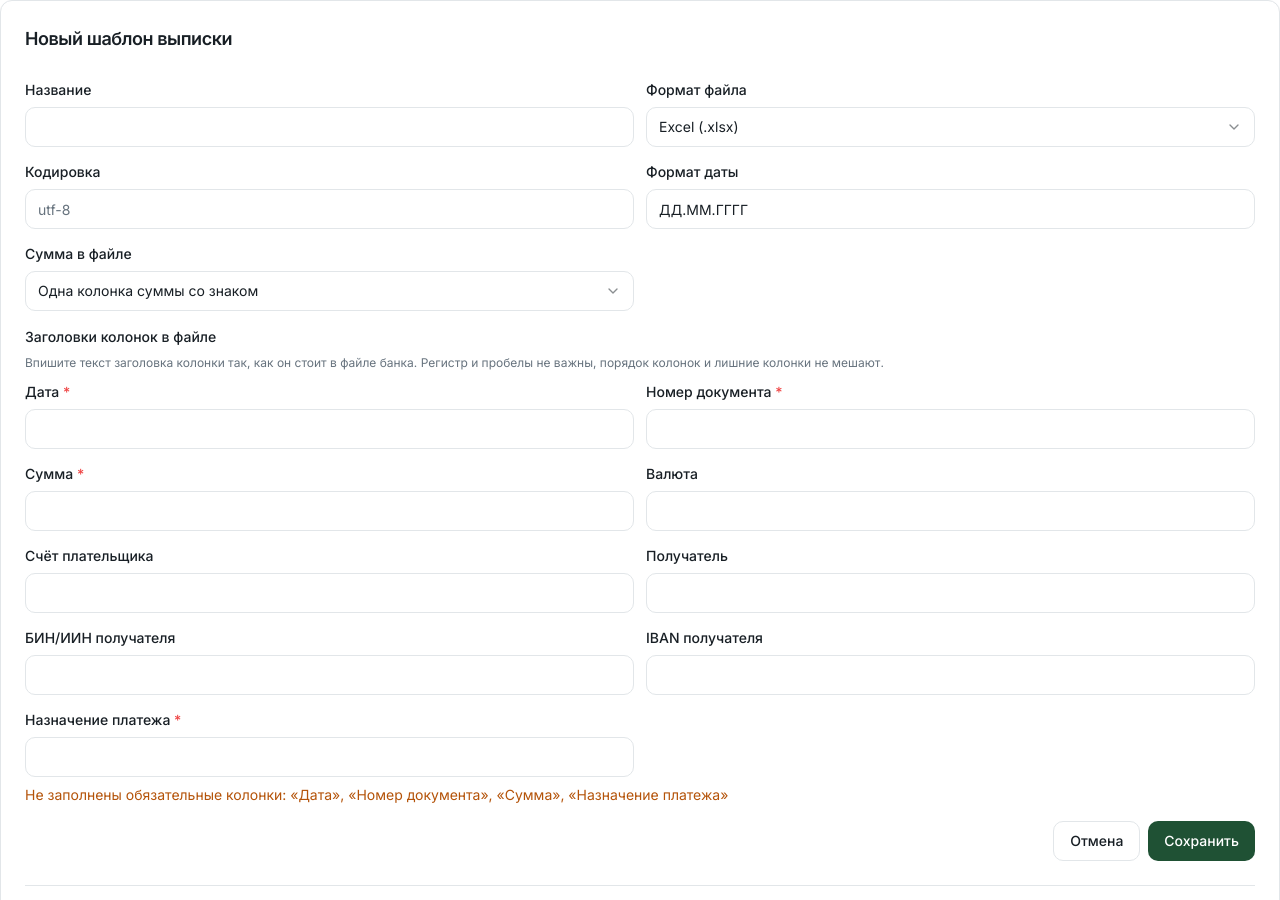
Test: TemplateEditor › режим «Дебет/Кредит» требует обе колонки вместо «Суммы»
Click the dropdown named "Сумма в файле": (148, 290) [25, 271, 634, 311]
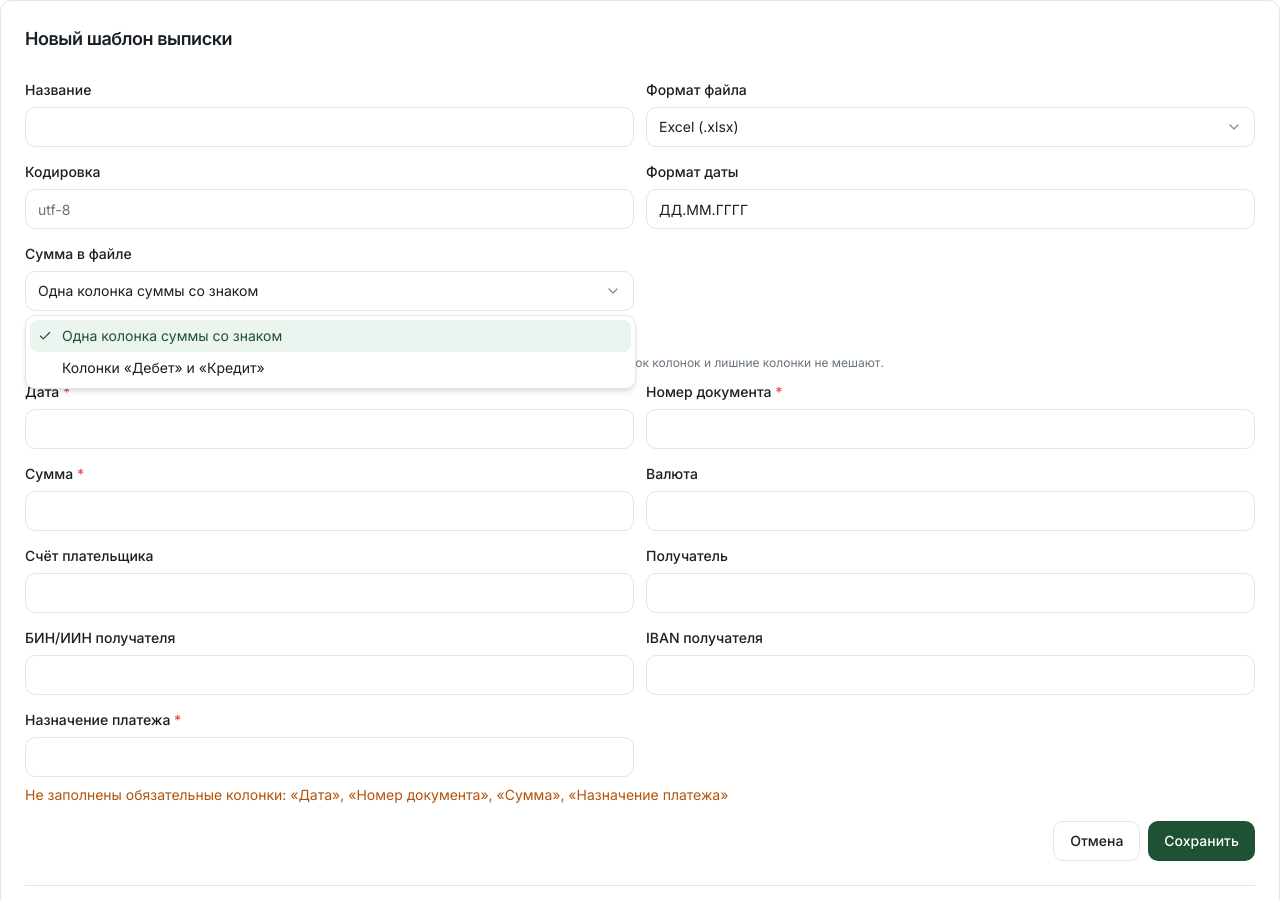
Click the option "Колонки «Дебет» и «Кредит»": (163, 368) [62, 359, 265, 376]
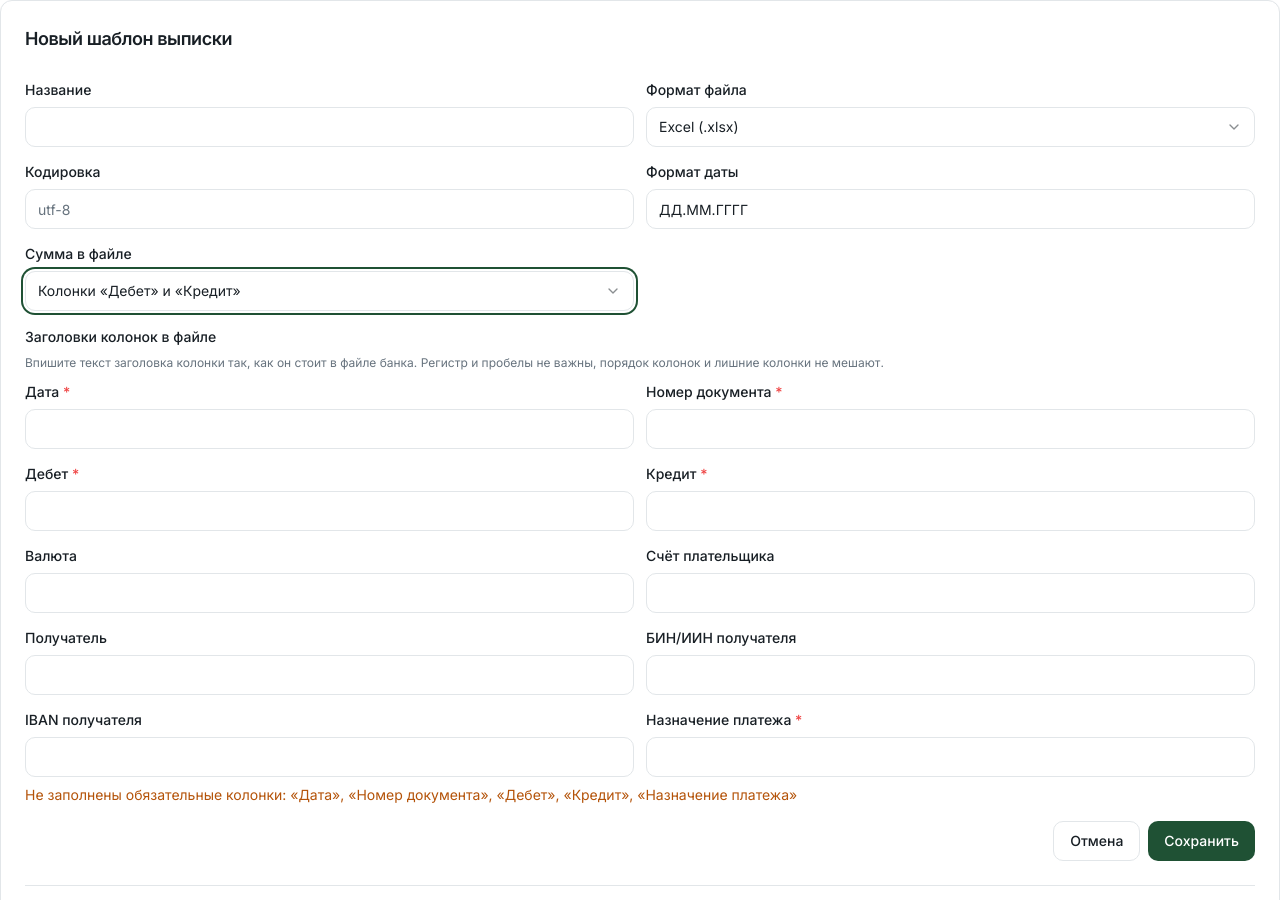
Expected: the message shows "«Дебет», «Кредит»", [25, 786, 797, 803]
